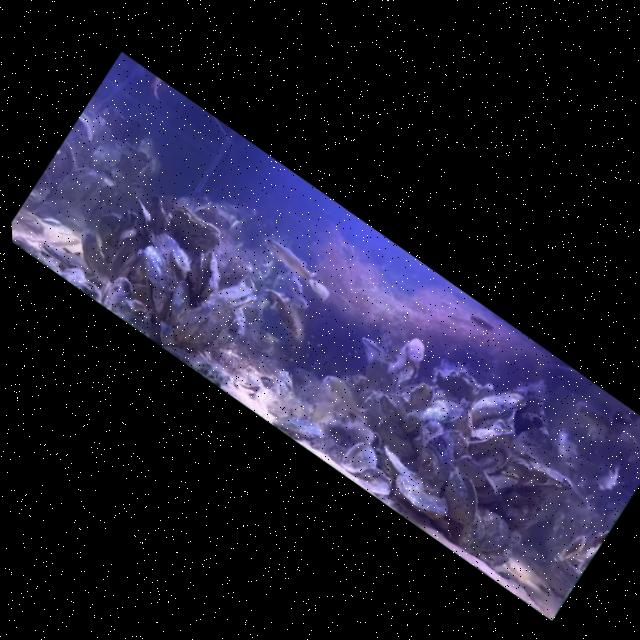Oyster-Closed: (115, 225, 205, 323), (390, 410, 476, 500), (396, 380, 467, 455), (464, 371, 533, 443), (385, 467, 454, 528), (186, 298, 242, 364), (460, 503, 519, 562), (461, 409, 518, 470), (168, 289, 221, 352), (374, 444, 431, 494), (154, 275, 203, 332), (450, 506, 501, 560), (40, 235, 96, 281), (369, 418, 421, 465), (443, 396, 488, 442), (122, 197, 163, 238)
Oyster-Indeterminate: (44, 156, 108, 227), (508, 444, 575, 501), (78, 204, 137, 267), (65, 224, 123, 281), (33, 138, 86, 200), (515, 463, 572, 519), (429, 357, 486, 411), (205, 305, 256, 365), (135, 192, 183, 243), (470, 432, 518, 481), (190, 195, 236, 238), (434, 423, 478, 467), (449, 449, 494, 492), (96, 271, 138, 317), (353, 461, 399, 503), (482, 460, 524, 501), (401, 376, 439, 416), (371, 393, 409, 428)
Oyster-Open: (426, 461, 496, 533), (161, 200, 227, 260), (178, 245, 234, 306), (355, 345, 412, 402), (336, 435, 385, 485), (212, 272, 260, 321), (67, 111, 108, 153), (257, 371, 278, 391)
